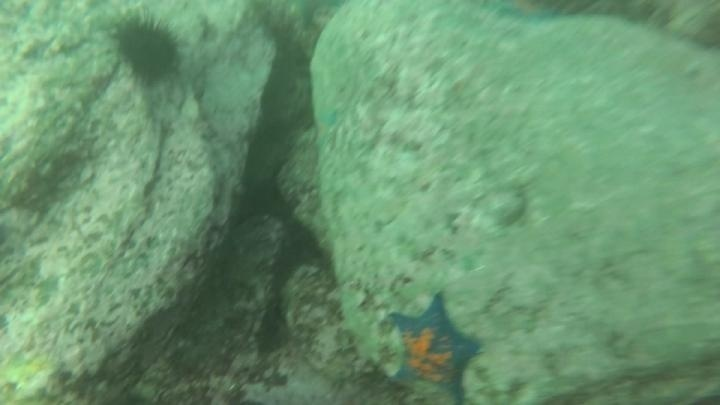echinus: (108, 12, 186, 89)
starfish: (381, 290, 486, 404), (490, 1, 561, 28), (311, 103, 343, 153)
